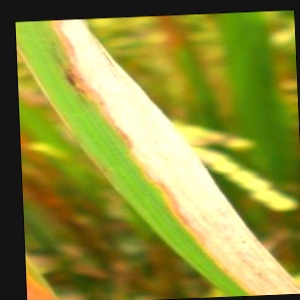Leaf_Blast: (86, 42, 230, 277)
